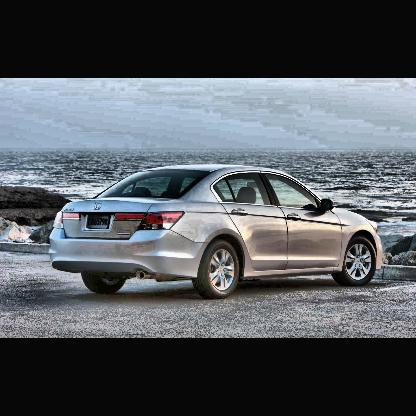Honda Accord Sedan 2012: (51, 163, 385, 299)
